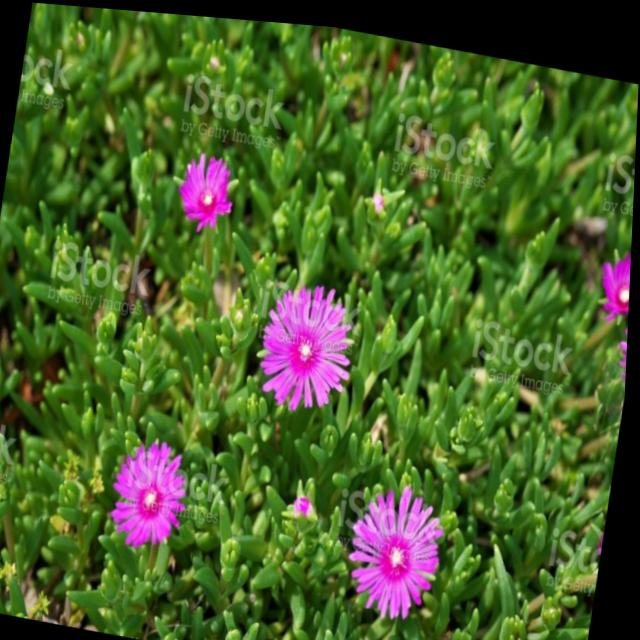Flower: (244, 258, 368, 415), (346, 469, 460, 612), (113, 433, 199, 548), (177, 147, 242, 221), (600, 235, 633, 304), (501, 633, 589, 640)
